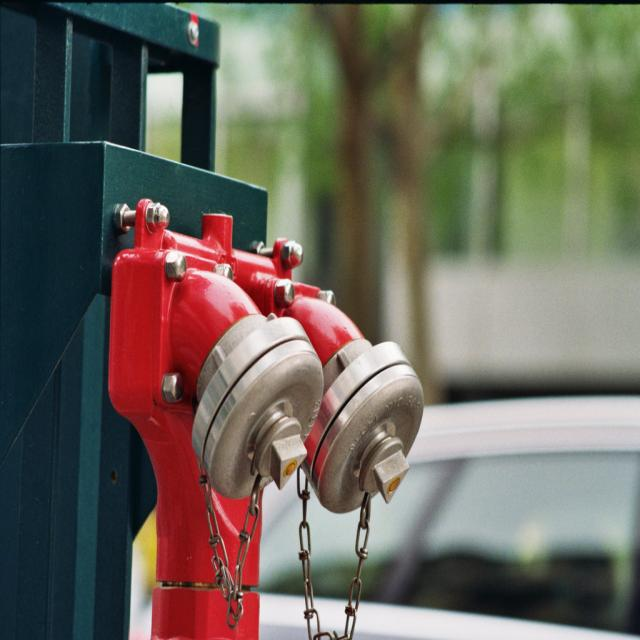fire_hydrant: (0, 0, 425, 639)
